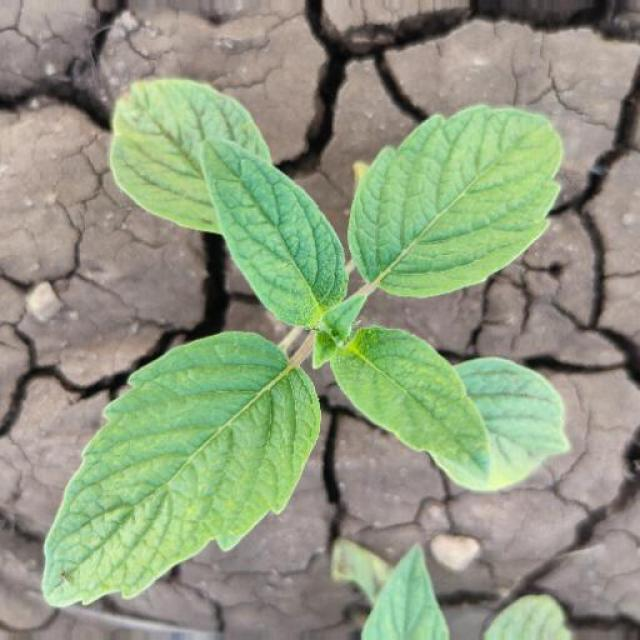crop: (34, 63, 575, 622)
